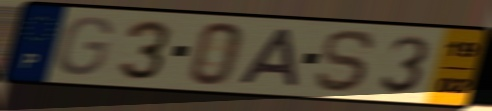0: (185, 20, 245, 88)
3: (116, 17, 174, 81), (378, 33, 432, 96)
A: (235, 27, 303, 89)
G: (54, 15, 116, 78)
S: (312, 27, 380, 95)
